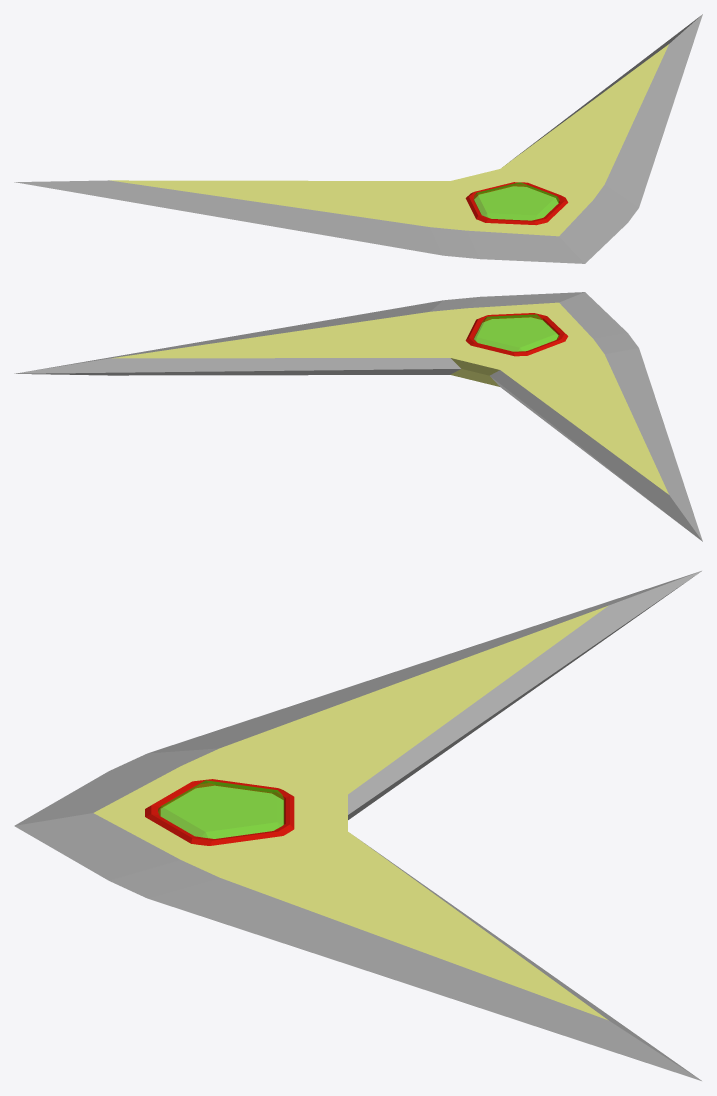
File: boo.fbx
3 views of the same model, one above another, from view 1: azimuth 30°, elevation 25°; view 2: azimuth 150°, elevation 25°; view 3: azimuth 270°, elevation 25° (orthographic). The views are drawn at different scales.
Visible parts, largest first — view 1: Cube.001, Cube.002, Cube, Cube.003; view 2: Cube.001, Cube.002, Cube, Cube.003; view 3: Cube.001, Cube.002, Cube, Cube.003.
Boxes of the visible parts, <box> form: Cube.001: <box>110,44,668,236</box>; Cube.002: <box>14,14,702,263</box>; Cube: <box>473,182,559,220</box>; Cube.003: <box>465,182,568,225</box>; Cube.001: <box>112,302,668,494</box>; Cube.002: <box>14,292,702,541</box>; Cube: <box>473,314,559,351</box>; Cube.003: <box>465,313,568,356</box>; Cube.001: <box>94,605,608,1020</box>; Cube.002: <box>14,571,701,1080</box>; Cube: <box>158,780,284,838</box>; Cube.003: <box>145,779,294,845</box>.
Bounding box in the file's own units: 9.77 × 0.2919 × 5.56.
